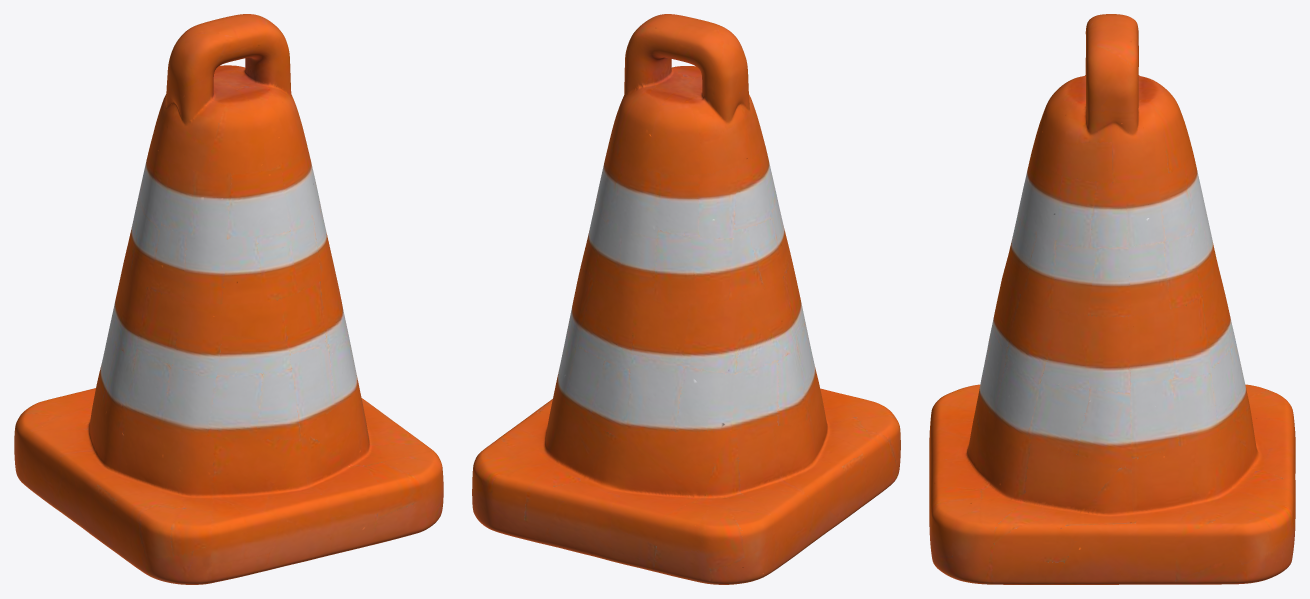
File: Traffic-cone.glb
3 renders of one model, left to right at view 1: azimuth 30°, elevation 25°; view 2: azimuth 150°, elevation 25°; view 3: azimuth 270°, elevation 25°, orthographic. The views are drawn at different scales.
Bounding box in the file's own units: 1.3 × 2 × 1.36.
Materials: 1 (1 with a texture image).
